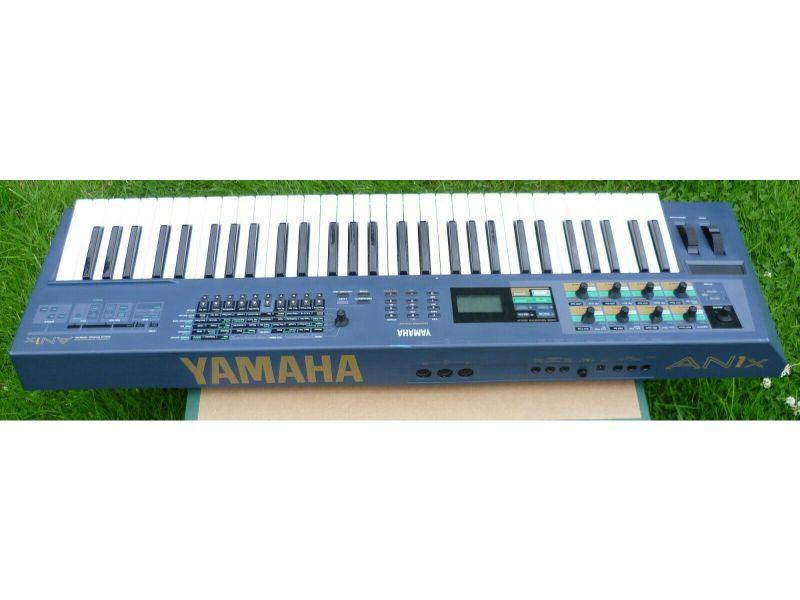synthesizer: (16, 188, 791, 387)
